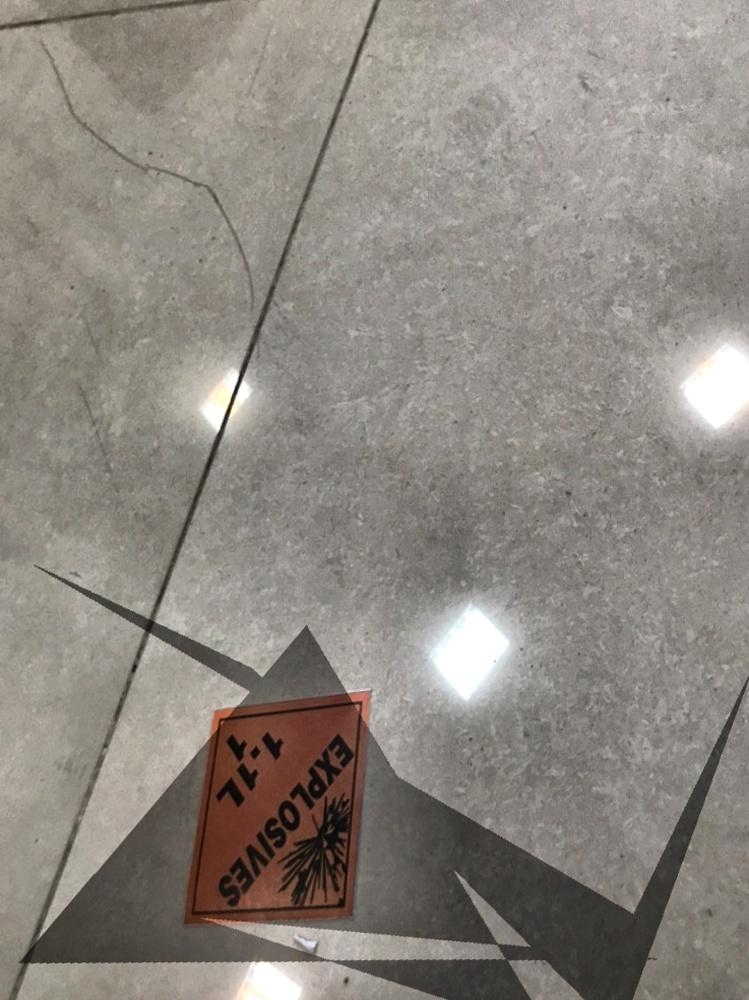explosive: (178, 679, 375, 954)
